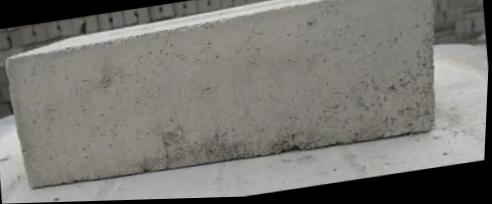brick: (0, 0, 448, 193)
